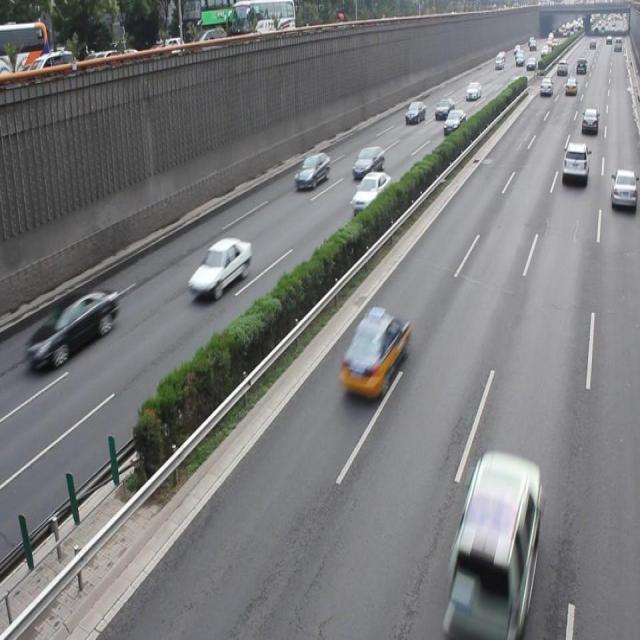car: (446, 451, 542, 632), (25, 286, 119, 368), (337, 310, 408, 398), (187, 236, 251, 296), (352, 170, 391, 216), (294, 150, 329, 191), (610, 168, 640, 212), (562, 142, 588, 183), (352, 145, 384, 177)
